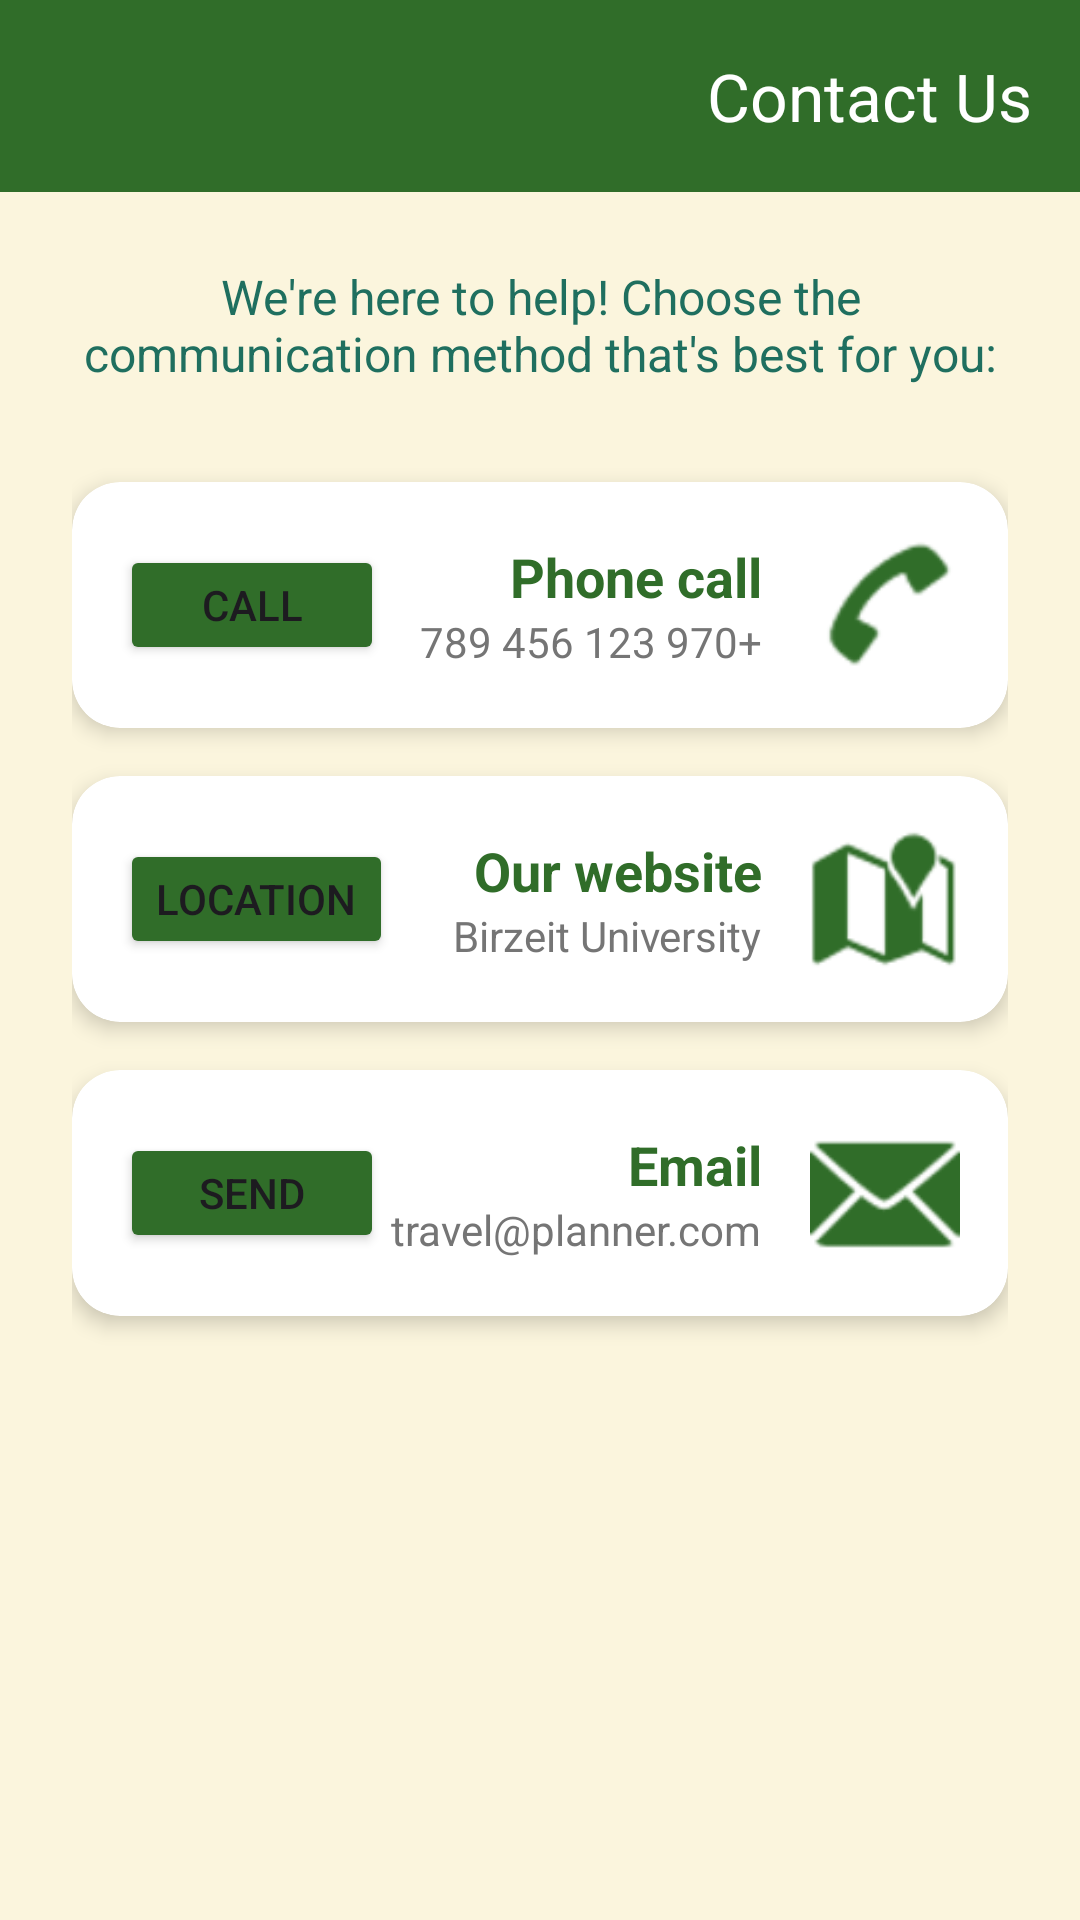

Locate icon controls on the screen. Image size 1080px×1920px, boxes as (x1, y1, x2, y2).
map: (812, 833, 956, 965)
sym action call: (829, 544, 949, 665)
